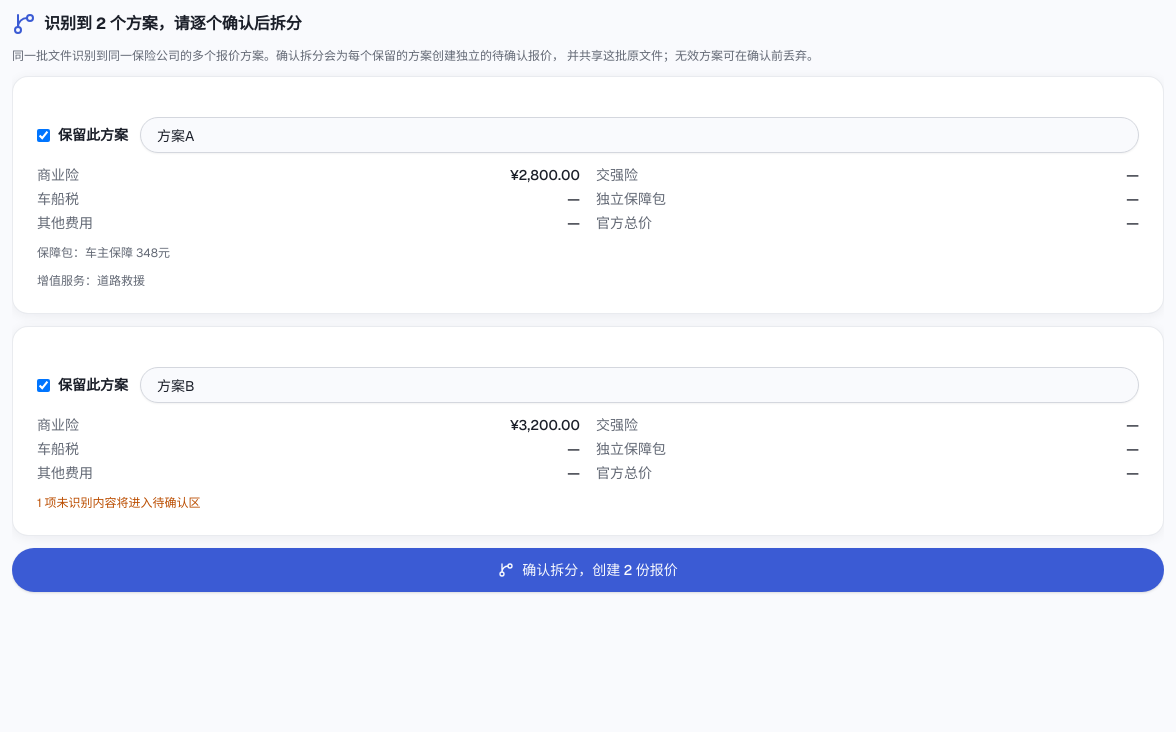
Test case: PlanSplitFlow：拆分确认卡片流 › 全部丢弃时按钮禁用；接口 422 展示中文错误
Click the checkbox named "保留 方案A": (44, 135) [37,128,50,142]
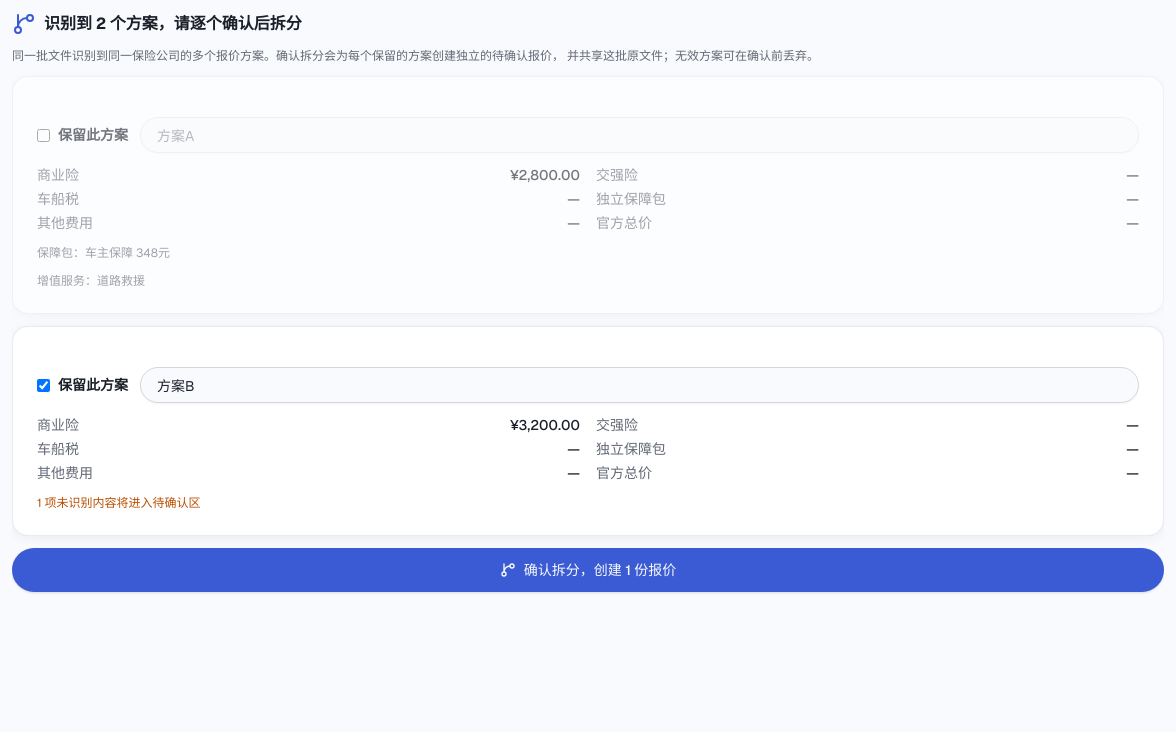
Click the checkbox named "保留 方案B": (44, 385) [37,378,50,392]
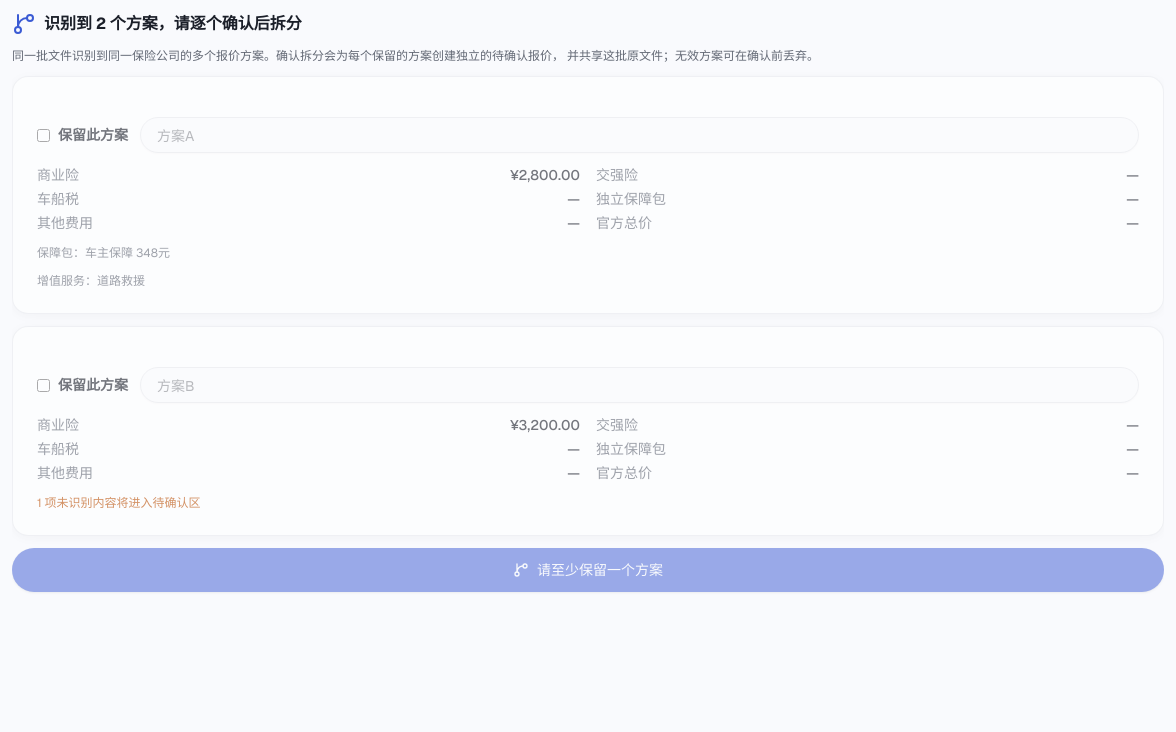
Now the button "请至少保留一个方案" is disabled, box [12,548,1164,592]
Click the checkbox named "保留 方案A": (44, 135) [37,128,50,142]
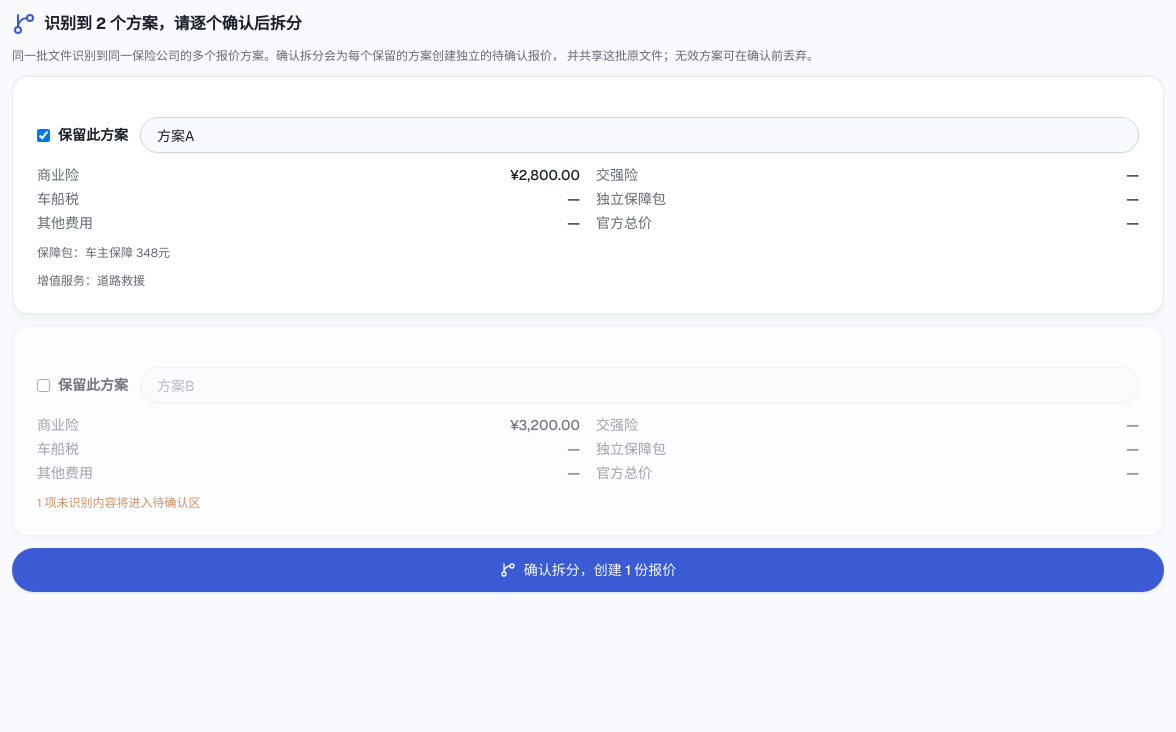
Click the button "确认拆分，创建 1 份报价": (588, 570) [12,548,1164,592]
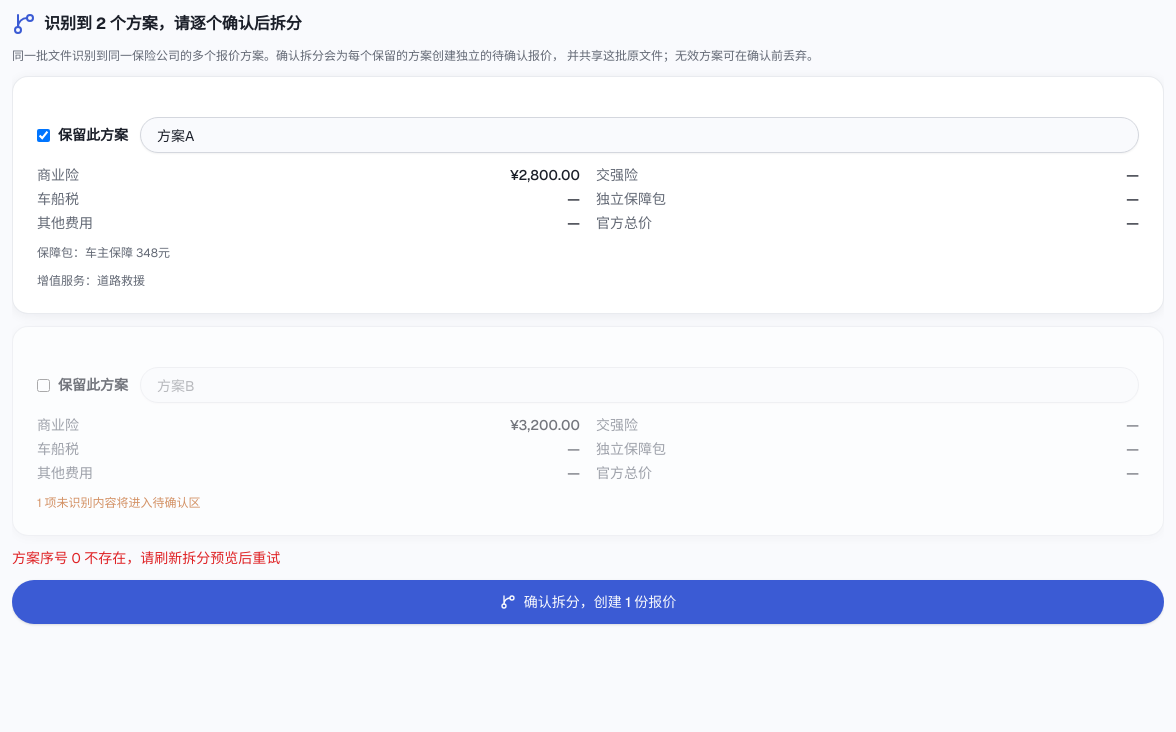
Now the message shows "方案序号 0 不存在", box [12,549,280,567]
